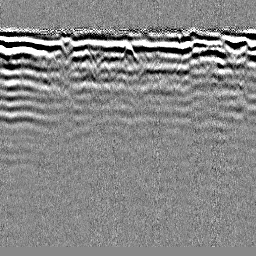cavity: (119, 41, 139, 63)
